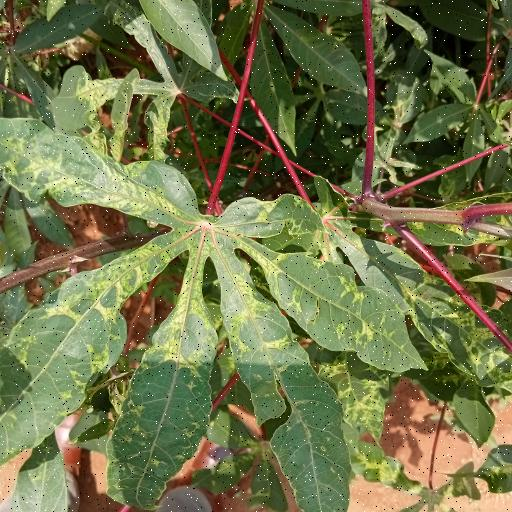Cassava_Healthy: (0, 115, 417, 512)
